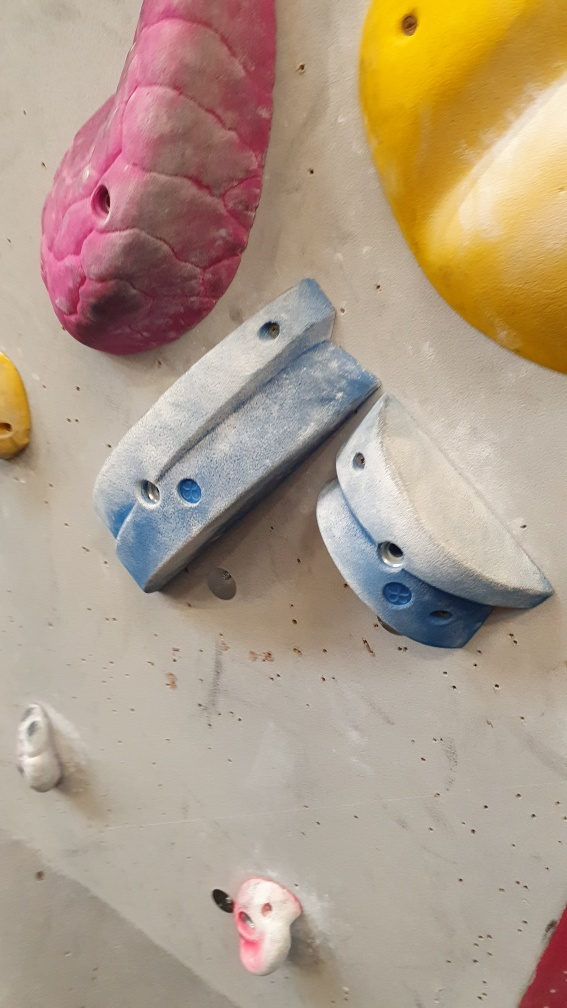Hand Start: (205, 567, 242, 610), (206, 880, 236, 918)
Pinch: (98, 277, 379, 596), (305, 381, 554, 656)
